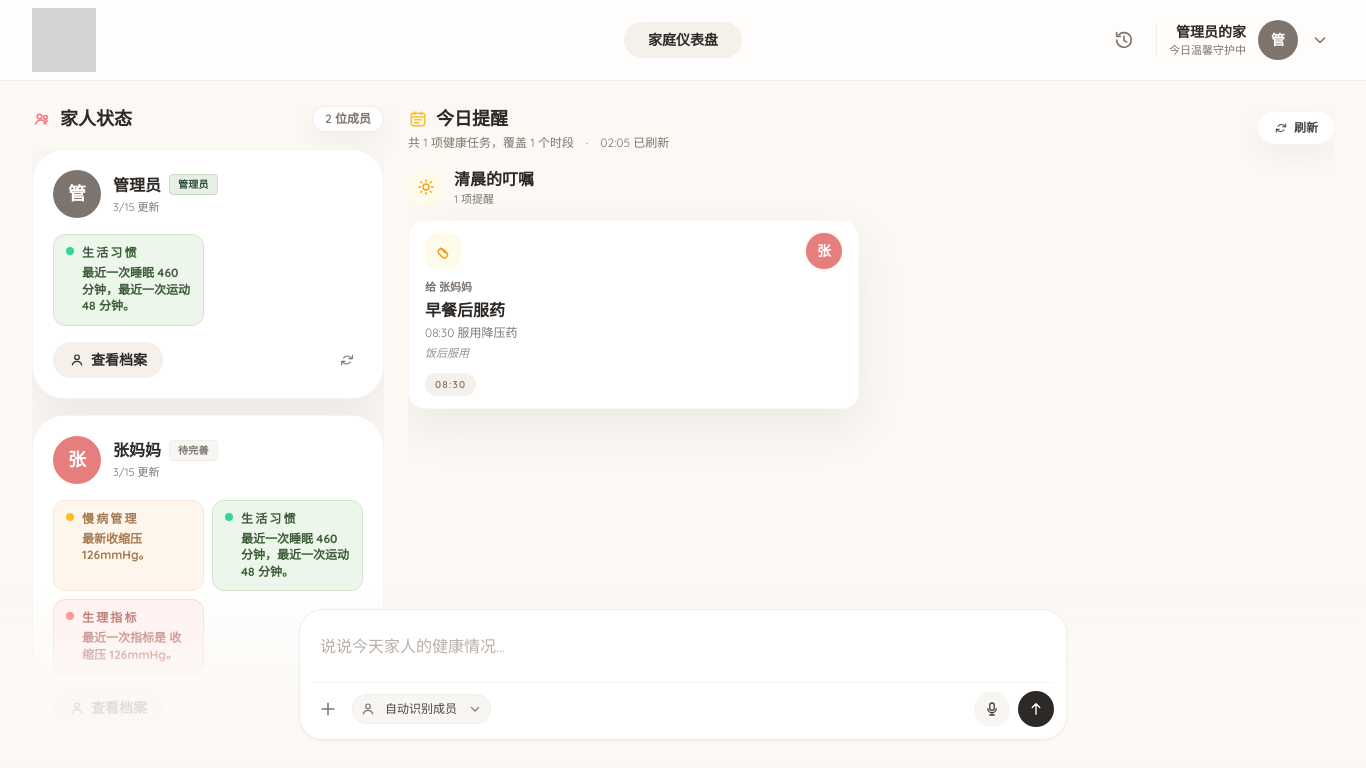
Test case: App › maps transport-level chat failures to a connection-specific message
The image size is (1366, 768).
Click the button named "发送文本" at (1036, 709), box [1018,691,1054,727]
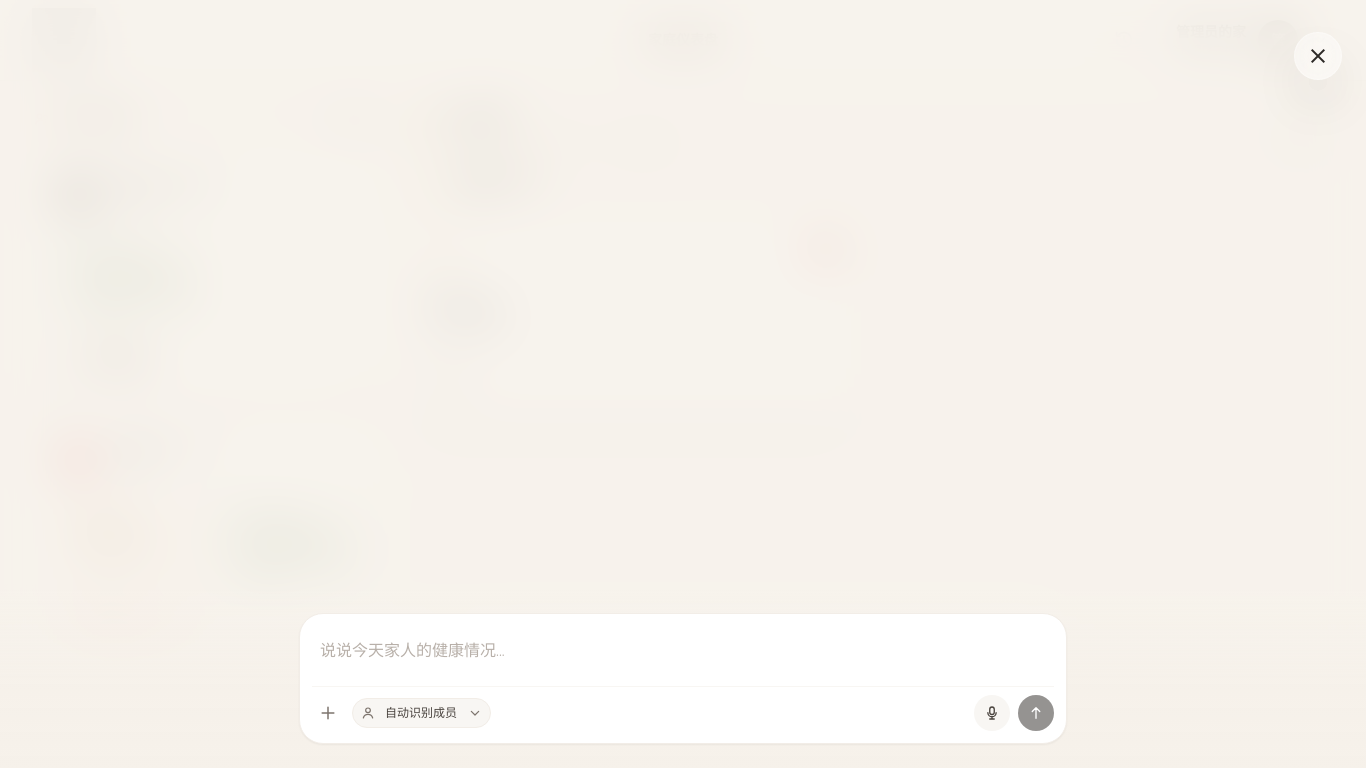
Type "帮我总结今天情况" into the text box named "对话输入框" at (683, 650), box [320,630,1046,670]
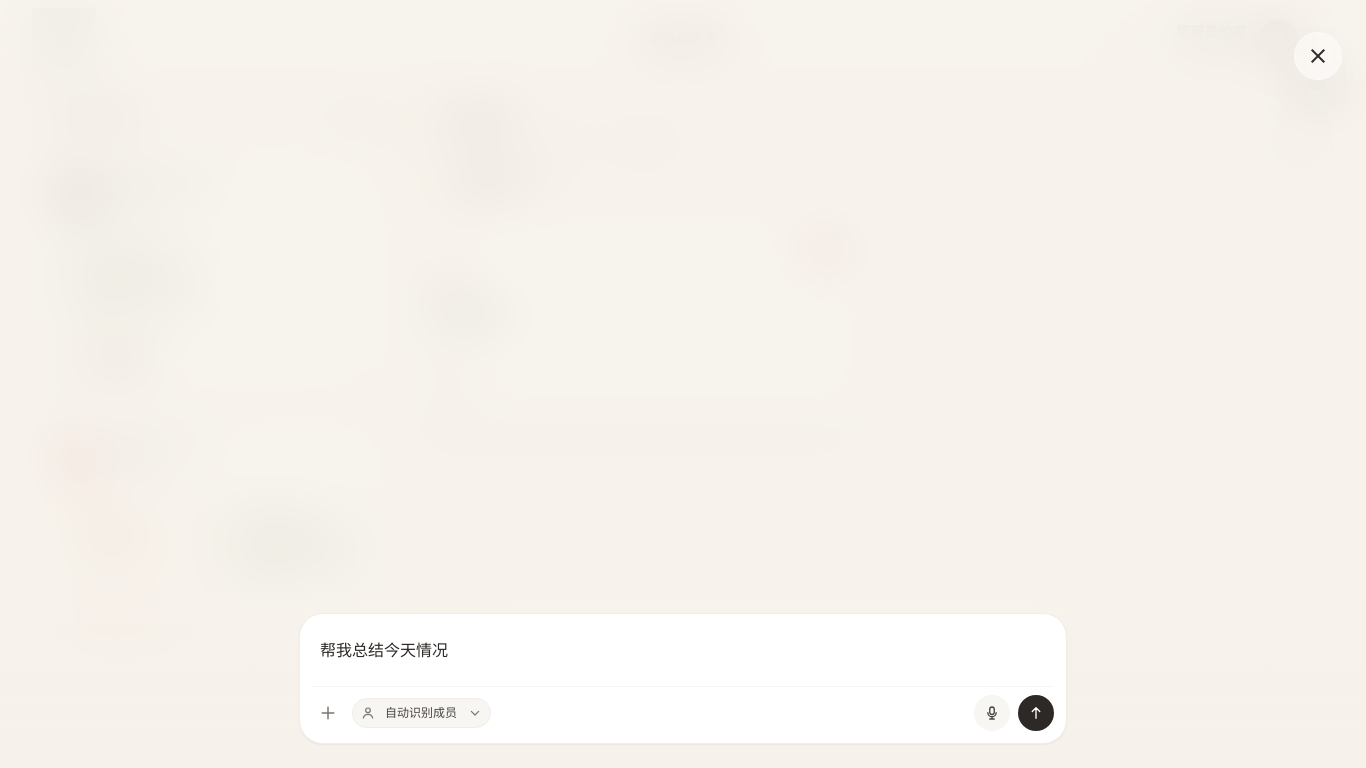
Click the button named "发送" at (1036, 713), box [1018,695,1054,731]
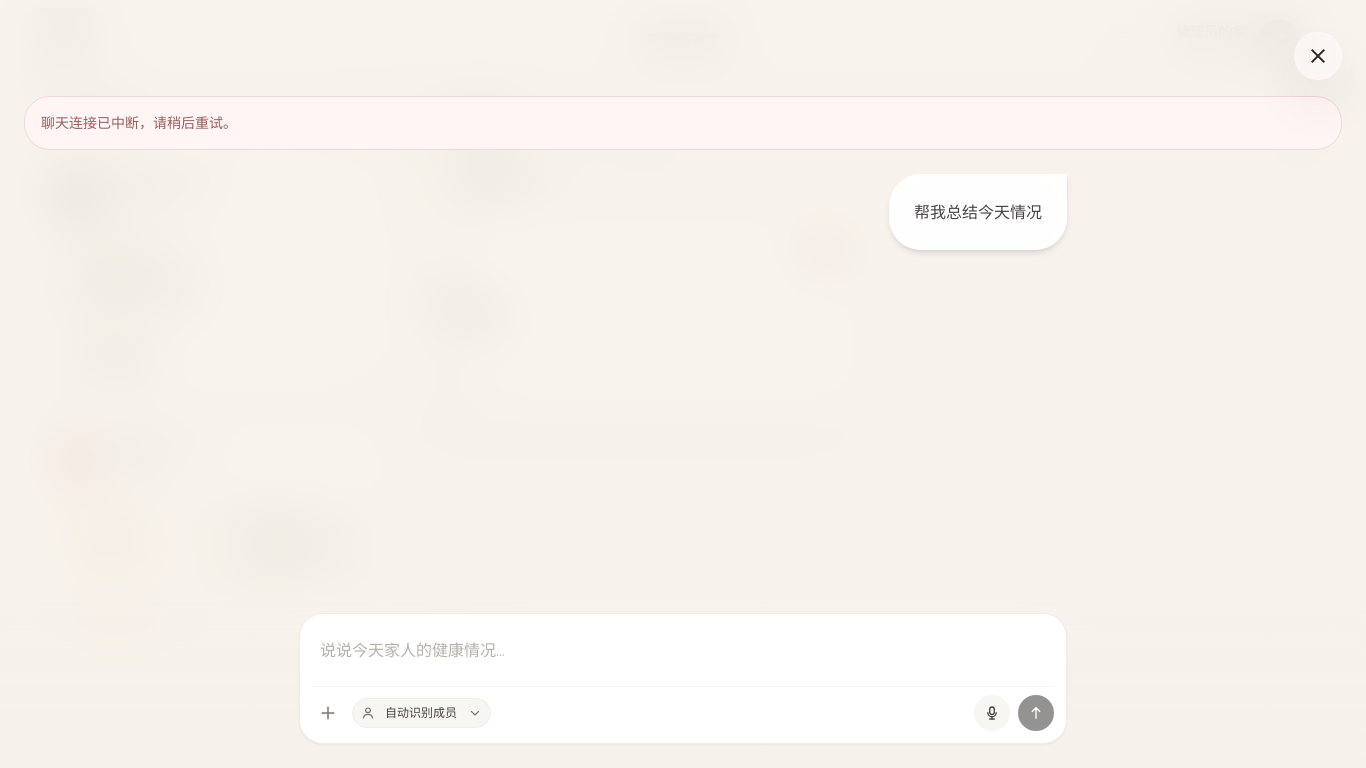
Result: the text "聊天连接已中断，请稍后重试。" is shown at [24,96,1342,150]
